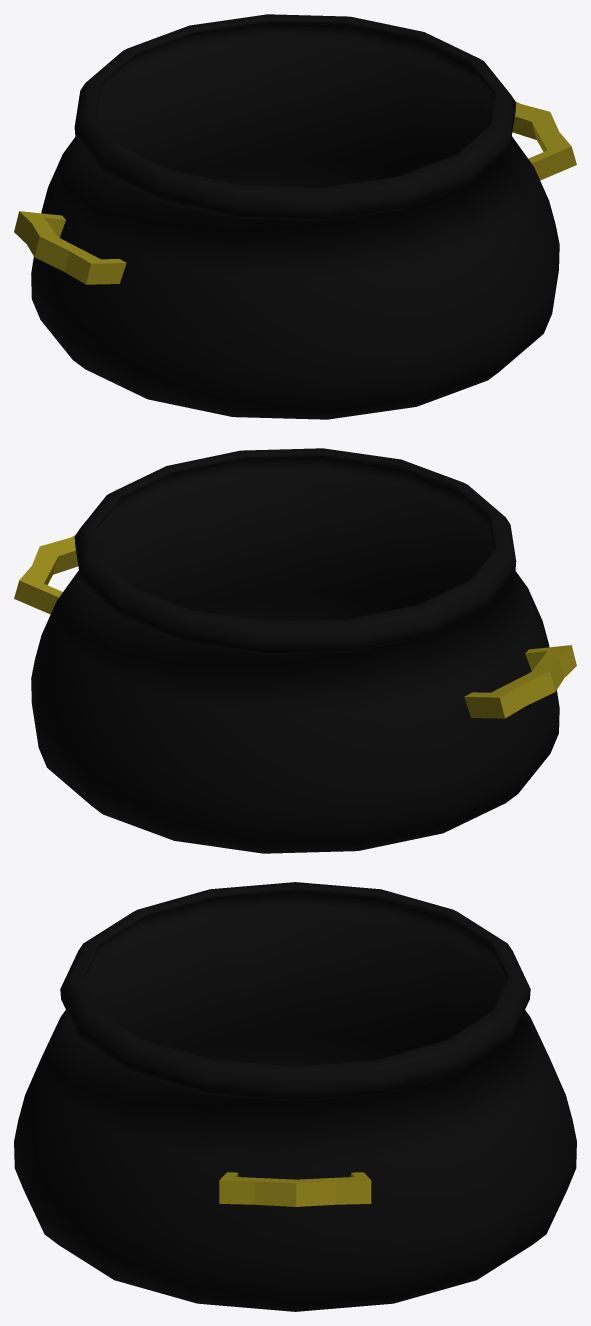
Rendered from Eisenkessel.obj.
The picture shows the model from 3 angles, top to bottom: view 1: azimuth 30°, elevation 25°; view 2: azimuth 150°, elevation 25°; view 3: azimuth 270°, elevation 25°; orthographic projection. The views are drawn at different scales.
Visible parts, largest first — view 1: Eisenkessel; view 2: Eisenkessel; view 3: Eisenkessel.
Boxes of the visible parts, x1,y1,x2,y2 form: Eisenkessel: (14, 14, 576, 419); Eisenkessel: (14, 448, 576, 853); Eisenkessel: (14, 882, 576, 1311).
Size of the model in its own units: 1.1 by 0.4464 by 0.9776.
